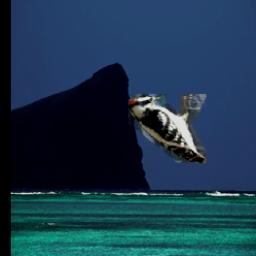Woodpecker: (128, 95, 206, 164)
